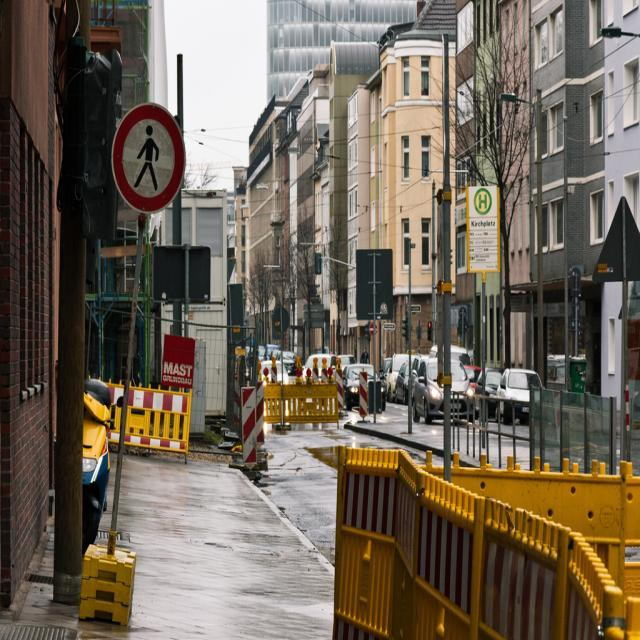road_sign: (113, 104, 185, 213), (241, 386, 257, 464), (361, 372, 368, 417)
